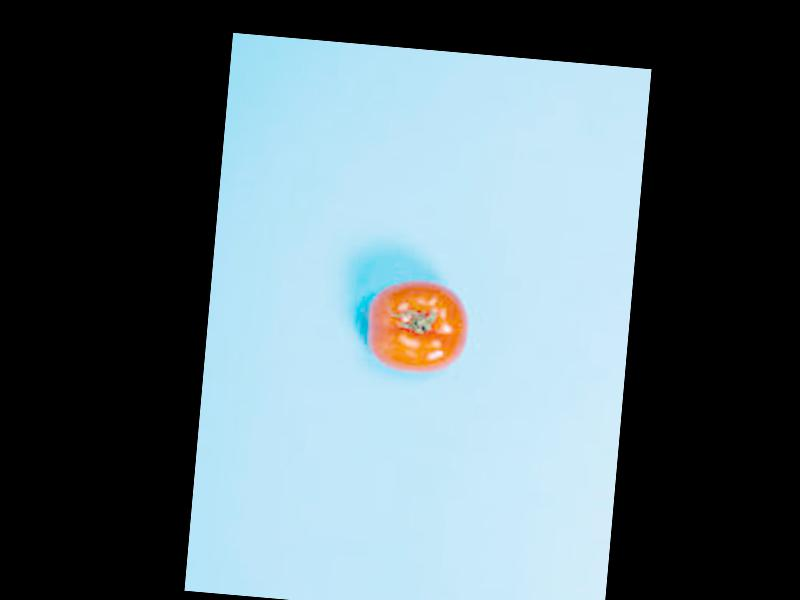Tomato: (364, 273, 473, 375)
